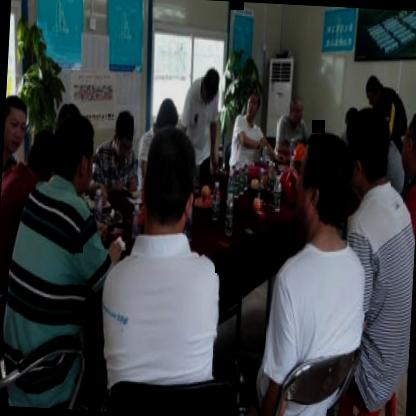head: (289, 123, 358, 245), (134, 118, 202, 238), (50, 108, 96, 192), (344, 108, 388, 181), (24, 126, 62, 188), (2, 90, 30, 160), (110, 107, 138, 164), (196, 64, 222, 122), (395, 103, 416, 174), (150, 92, 180, 136), (241, 83, 265, 126), (362, 70, 384, 104), (288, 94, 304, 126), (413, 79, 416, 125)
